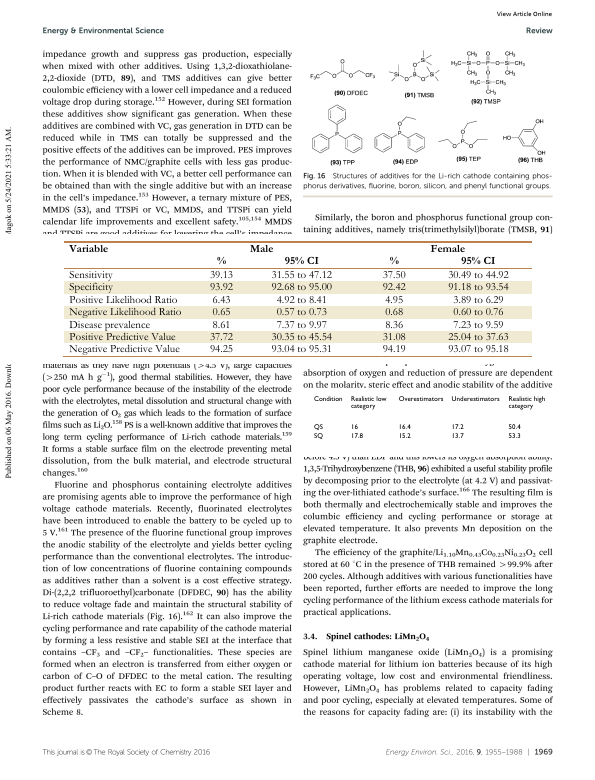borderless: (64, 239, 532, 356), (308, 393, 548, 451)
cell: (68, 307, 182, 319), (68, 344, 180, 356), (68, 294, 178, 306), (68, 332, 176, 344), (68, 319, 150, 331), (270, 270, 332, 282), (447, 270, 509, 282), (270, 282, 332, 294), (447, 282, 509, 294), (270, 332, 332, 344), (447, 332, 509, 344), (270, 344, 332, 356), (447, 344, 509, 356), (275, 294, 327, 306), (452, 294, 504, 306), (275, 307, 327, 319), (452, 307, 504, 319), (275, 319, 327, 331), (452, 319, 504, 331), (507, 395, 546, 411), (349, 395, 387, 411), (68, 270, 113, 282), (68, 282, 113, 294), (450, 395, 500, 404), (397, 395, 444, 404), (68, 243, 109, 253), (429, 243, 465, 253), (283, 256, 319, 265), (460, 256, 496, 265), (208, 270, 233, 282), (381, 270, 406, 282), (208, 282, 233, 294), (381, 282, 406, 294), (208, 332, 233, 344), (381, 332, 406, 344), (208, 344, 233, 356), (381, 344, 406, 356), (313, 395, 343, 404), (248, 243, 274, 253), (211, 294, 231, 306), (211, 307, 231, 319), (211, 319, 231, 331), (384, 294, 403, 306), (384, 307, 403, 319), (384, 319, 403, 331), (397, 423, 411, 432), (450, 423, 464, 432), (507, 423, 521, 432), (349, 432, 363, 441), (397, 432, 411, 441), (450, 432, 464, 441), (507, 432, 521, 441), (215, 256, 226, 265), (388, 256, 399, 265), (313, 423, 323, 432), (313, 432, 323, 441), (349, 423, 358, 432)
